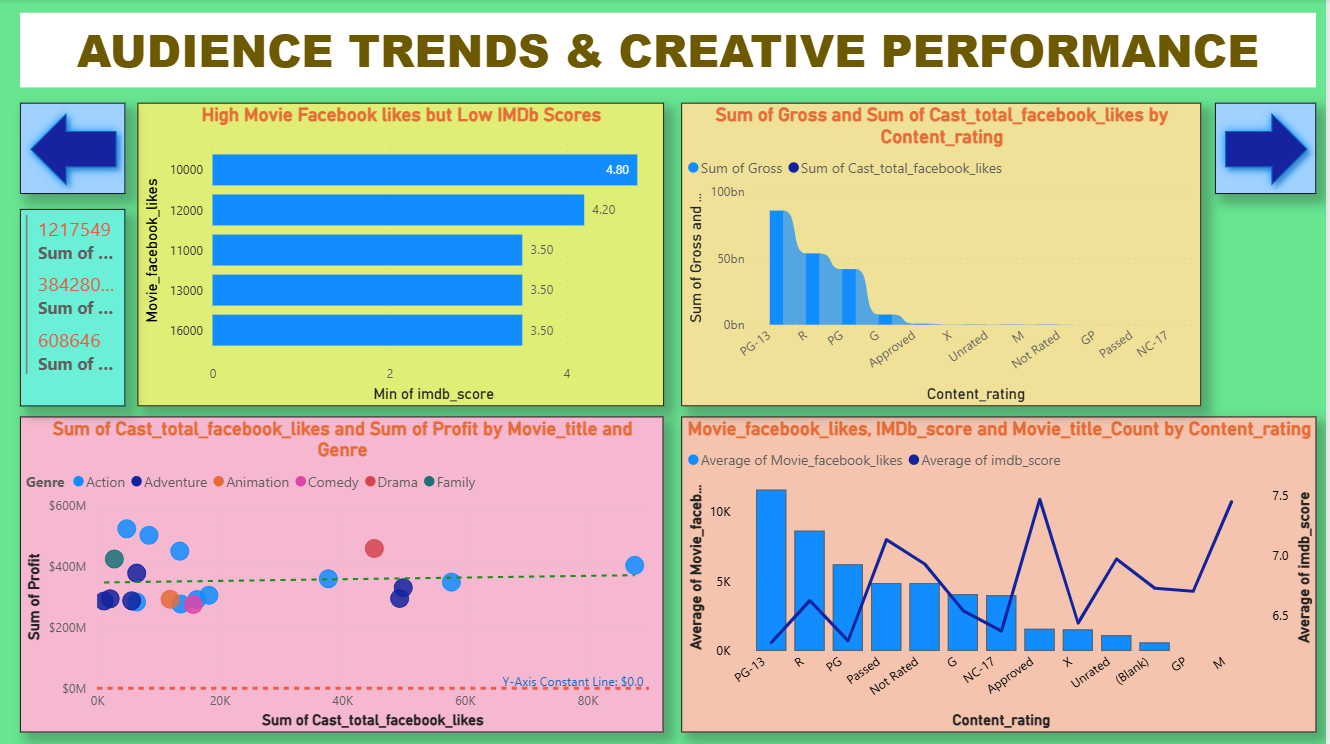

Layout of this report page (visuals, bound fields, positions):
{"tool":"powerbi","page":{"name":"HypeVSReality","canvas":[1280,720],"ordinal":1},"visuals":[{"type":"barChart","title":"High Movie Facebook likes but Low IMDb Scores","fields":{"Category":["Movie_metadata.Movie_facebook_likes"],"Y":["Min(Movie_metadata.imdb_score)"]},"box":[132.7,100.1,507.7,293.1],"z":0},{"type":"lineStackedColumnComboChart","title":"Movie_facebook_likes, IMDb_score and Movie_title_Count by Content_rating","fields":{"Y":["Avg(Movie_metadata.Movie_facebook_likes)"],"Y2":["Avg(Movie_metadata.imdb_score)"],"Category":["Movie_metadata.Content_rating"]},"box":[657.3,402.8,612.7,305.1],"z":1000},{"type":"scatterChart","fields":{"X":["Sum(Movie_metadata.Cast_total_facebook_likes)"],"Y":["Sum(Movie_metadata.Profit)"],"Category":["Movie_metadata.Movie_title"],"Series":["Movie_metadata.Genre"]},"box":[19.3,402.8,621.1,305.1],"z":2000},{"type":"ribbonChart","fields":{"Y":["Sum(Movie_metadata.Gross)","Sum(Movie_metadata.Cast_total_facebook_likes)"],"Category":["Movie_metadata.Content_rating"]},"box":[657.3,100.1,501.7,293.1],"z":3000},{"type":"textbox","box":[19.3,13.3,1250.7,72.4],"z":4000},{"type":"multiRowCard","fields":{"Values":["Sum(Movie_metadata.Num_user_for_reviews)","Sum(Movie_metadata.Num_voted_users)","Sum(Movie_metadata.Num_critic_for_reviews)"]},"box":[19.3,202.6,101.3,190.6],"z":5000},{"type":"shape","box":[19.3,100.1,101.3,88],"z":6000},{"type":"shape","box":[1172.3,100.1,97.7,88],"z":7000}]}

Visuals, with their boxes in screenshot pixels (x1, y1, x2, y2), scaled from the page's 1280x720 canvas onto the 1330x744 screenshot:
"High Movie Facebook likes but Low IMDb Scores" barChart: rect(138, 103, 665, 406)
"Movie_facebook_likes, IMDb_score and Movie_title_Count by Content_rating" lineStackedColumnComboChart: rect(683, 416, 1320, 731)
scatterChart - Sum(Movie_metadata.Cast_total_facebook_likes) x Sum(Movie_metadata.Profit): rect(20, 416, 665, 731)
ribbonChart - Sum(Movie_metadata.Gross) x Sum(Movie_metadata.Cast_total_facebook_likes): rect(683, 103, 1204, 406)
textbox: rect(20, 14, 1320, 89)
multiRowCard - Sum(Movie_metadata.Num_user_for_reviews) x Sum(Movie_metadata.Num_voted_users): rect(20, 209, 125, 406)
shape: rect(20, 103, 125, 194)
shape: rect(1218, 103, 1320, 194)
